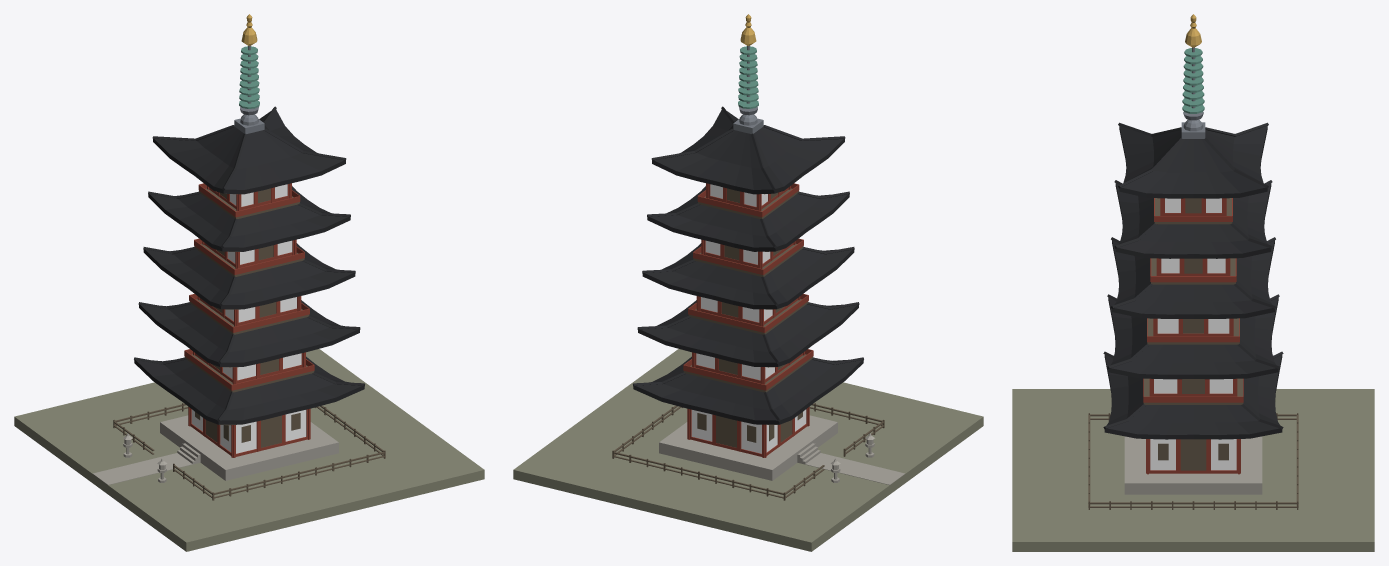
File: top-prebuilt.fbx
The picture shows the model from 3 angles, left to right: view 1: azimuth 30°, elevation 25°; view 2: azimuth 150°, elevation 25°; view 3: azimuth 270°, elevation 25°; orthographic projection. The views are drawn at different scales.
Parts seen in each view (by area): view 1: landmark-five_story_pagoda/0/top-prebuilt; view 2: landmark-five_story_pagoda/0/top-prebuilt; view 3: landmark-five_story_pagoda/0/top-prebuilt.
Part boxes in pixels (x1,y1,x2,y2): landmark-five_story_pagoda/0/top-prebuilt: (14,14,484,551); landmark-five_story_pagoda/0/top-prebuilt: (513,14,983,551); landmark-five_story_pagoda/0/top-prebuilt: (1012,14,1374,551).
Bounding box in the file's own units: 40 × 56.2 × 40.
